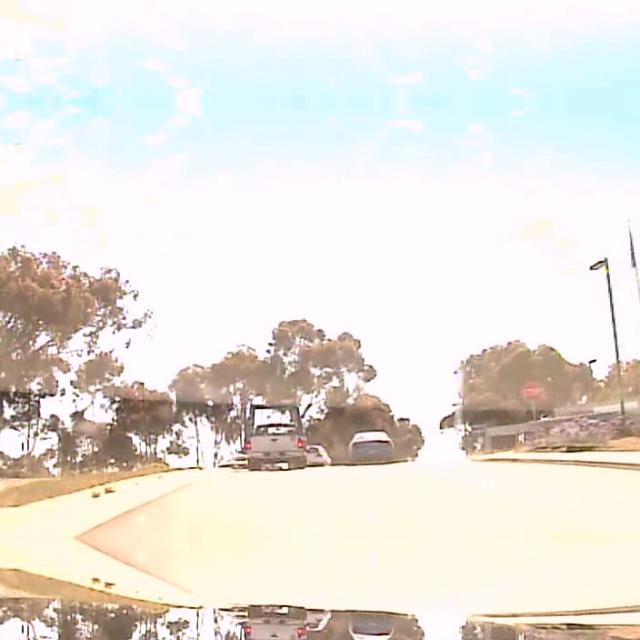stop: (519, 380, 541, 400)
